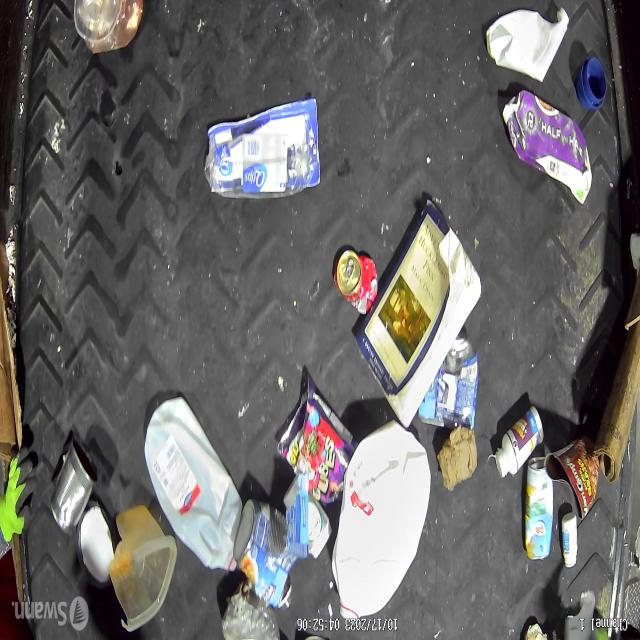can: (234, 498, 288, 607), (544, 437, 599, 520), (50, 440, 93, 535), (522, 454, 553, 561), (335, 246, 378, 314)
milk_jug: (332, 423, 428, 621), (143, 392, 245, 578)
non_white_jug: (502, 88, 592, 206)
